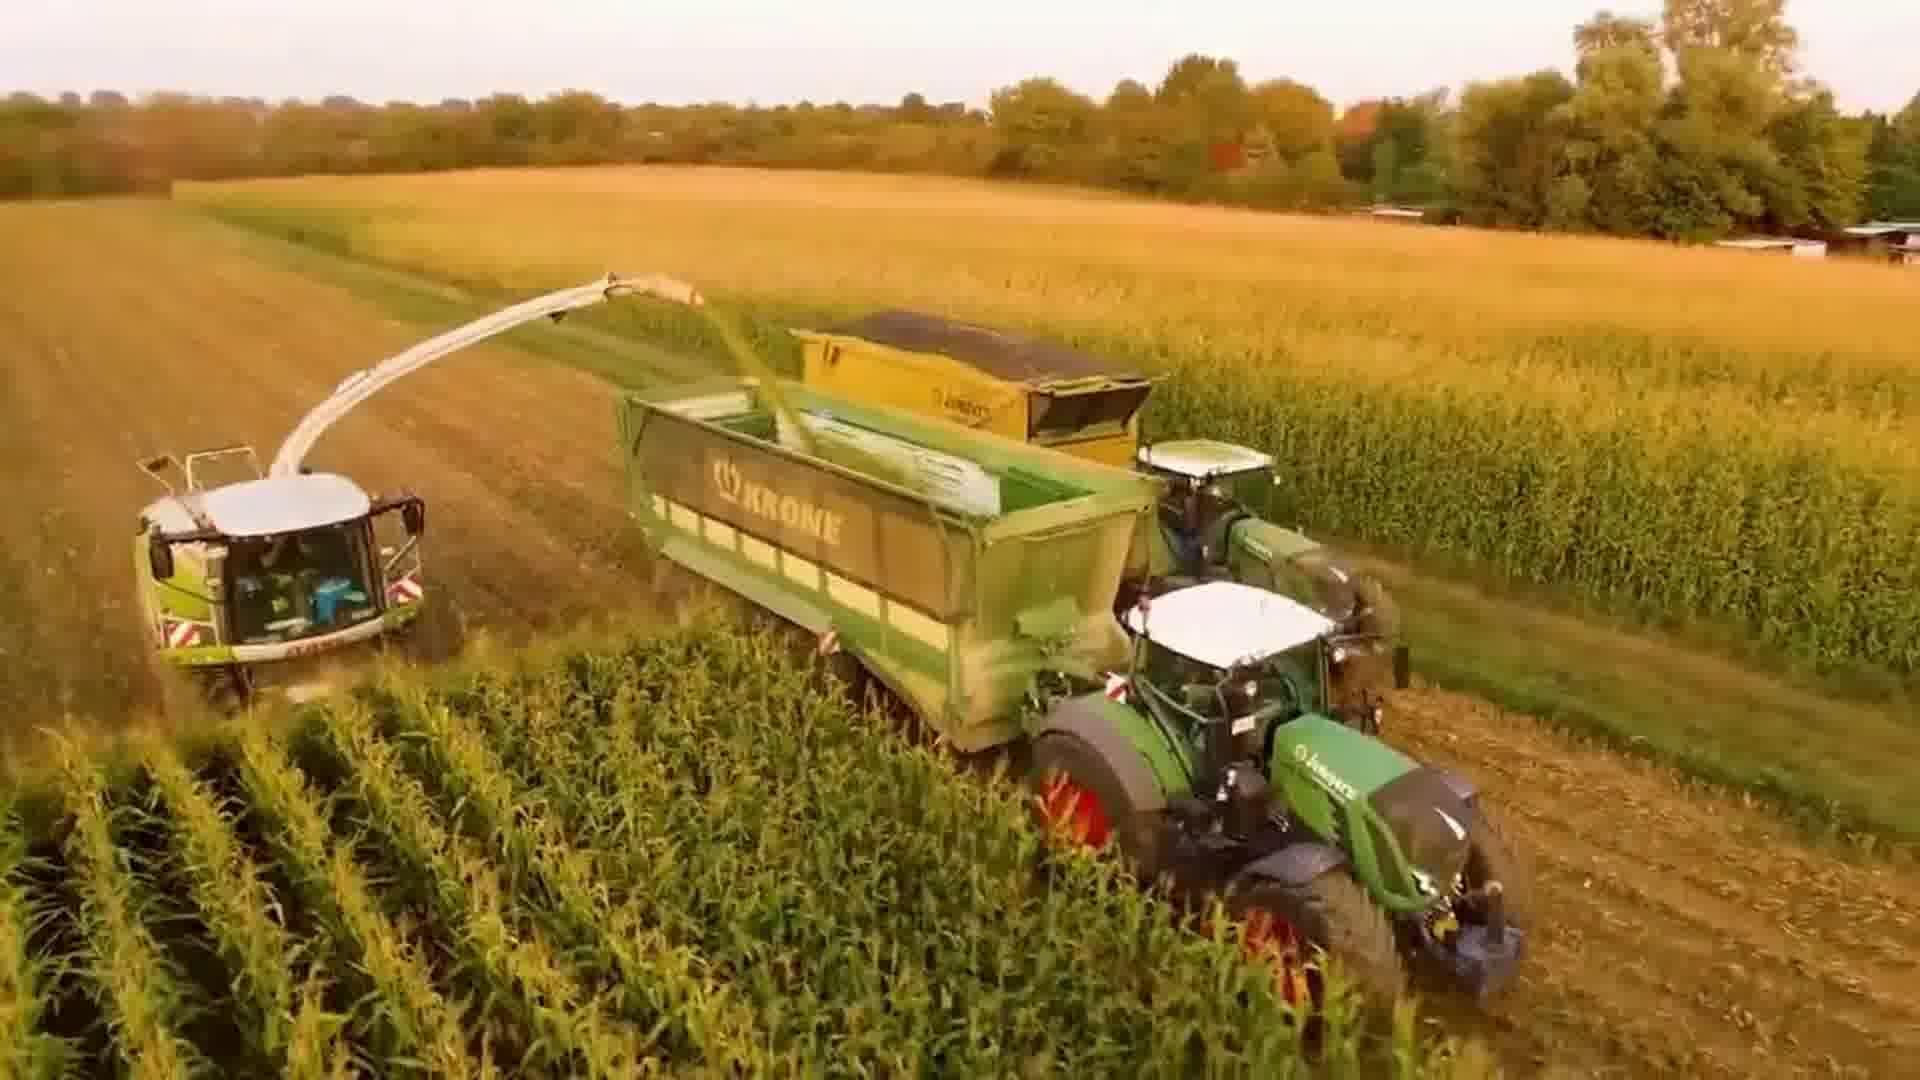combine harvester: (123, 264, 719, 757)
tractor: (1029, 574, 1540, 1039), (1137, 423, 1402, 636)
trailer: (616, 355, 1163, 753), (790, 306, 1146, 475)
